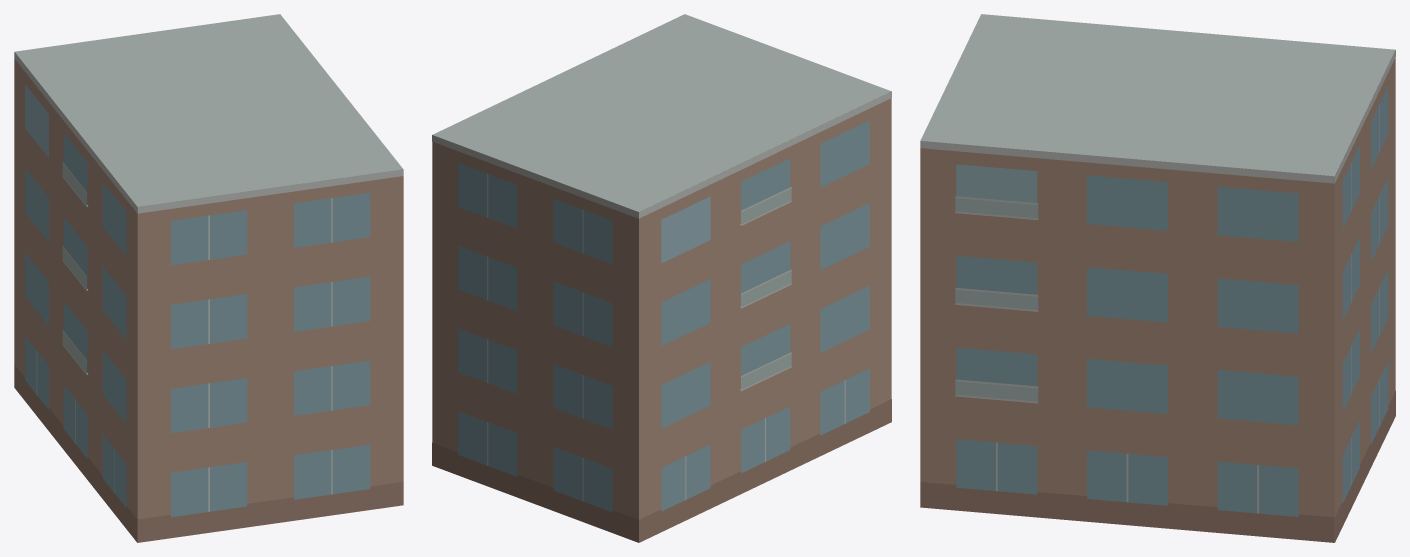
The model's file is residential-12a1fa8a-74fe-4555-b0a7-5e080f263b92.glb.
3 renders of one model, left to right at view 1: azimuth 30°, elevation 25°; view 2: azimuth 150°, elevation 25°; view 3: azimuth 270°, elevation 25°, orthographic. The views are drawn at different scales.
Visible parts, largest first — view 1: residential-12a1fa8a-74fe-4555-b0a7-5e080f263b92.tmp; view 2: residential-12a1fa8a-74fe-4555-b0a7-5e080f263b92.tmp; view 3: residential-12a1fa8a-74fe-4555-b0a7-5e080f263b92.tmp.
Part boxes in pixels (x1,y1,x2,y2): residential-12a1fa8a-74fe-4555-b0a7-5e080f263b92.tmp: (14,14,403,542); residential-12a1fa8a-74fe-4555-b0a7-5e080f263b92.tmp: (432,14,891,542); residential-12a1fa8a-74fe-4555-b0a7-5e080f263b92.tmp: (920,14,1395,542).
Bounding box in the file's own units: 11.59 × 12.2 × 14.35.
